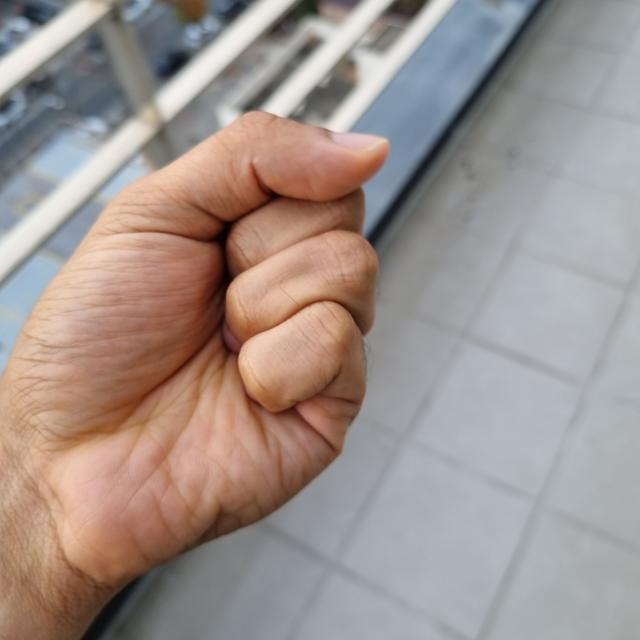Rock: (2, 111, 393, 571)
